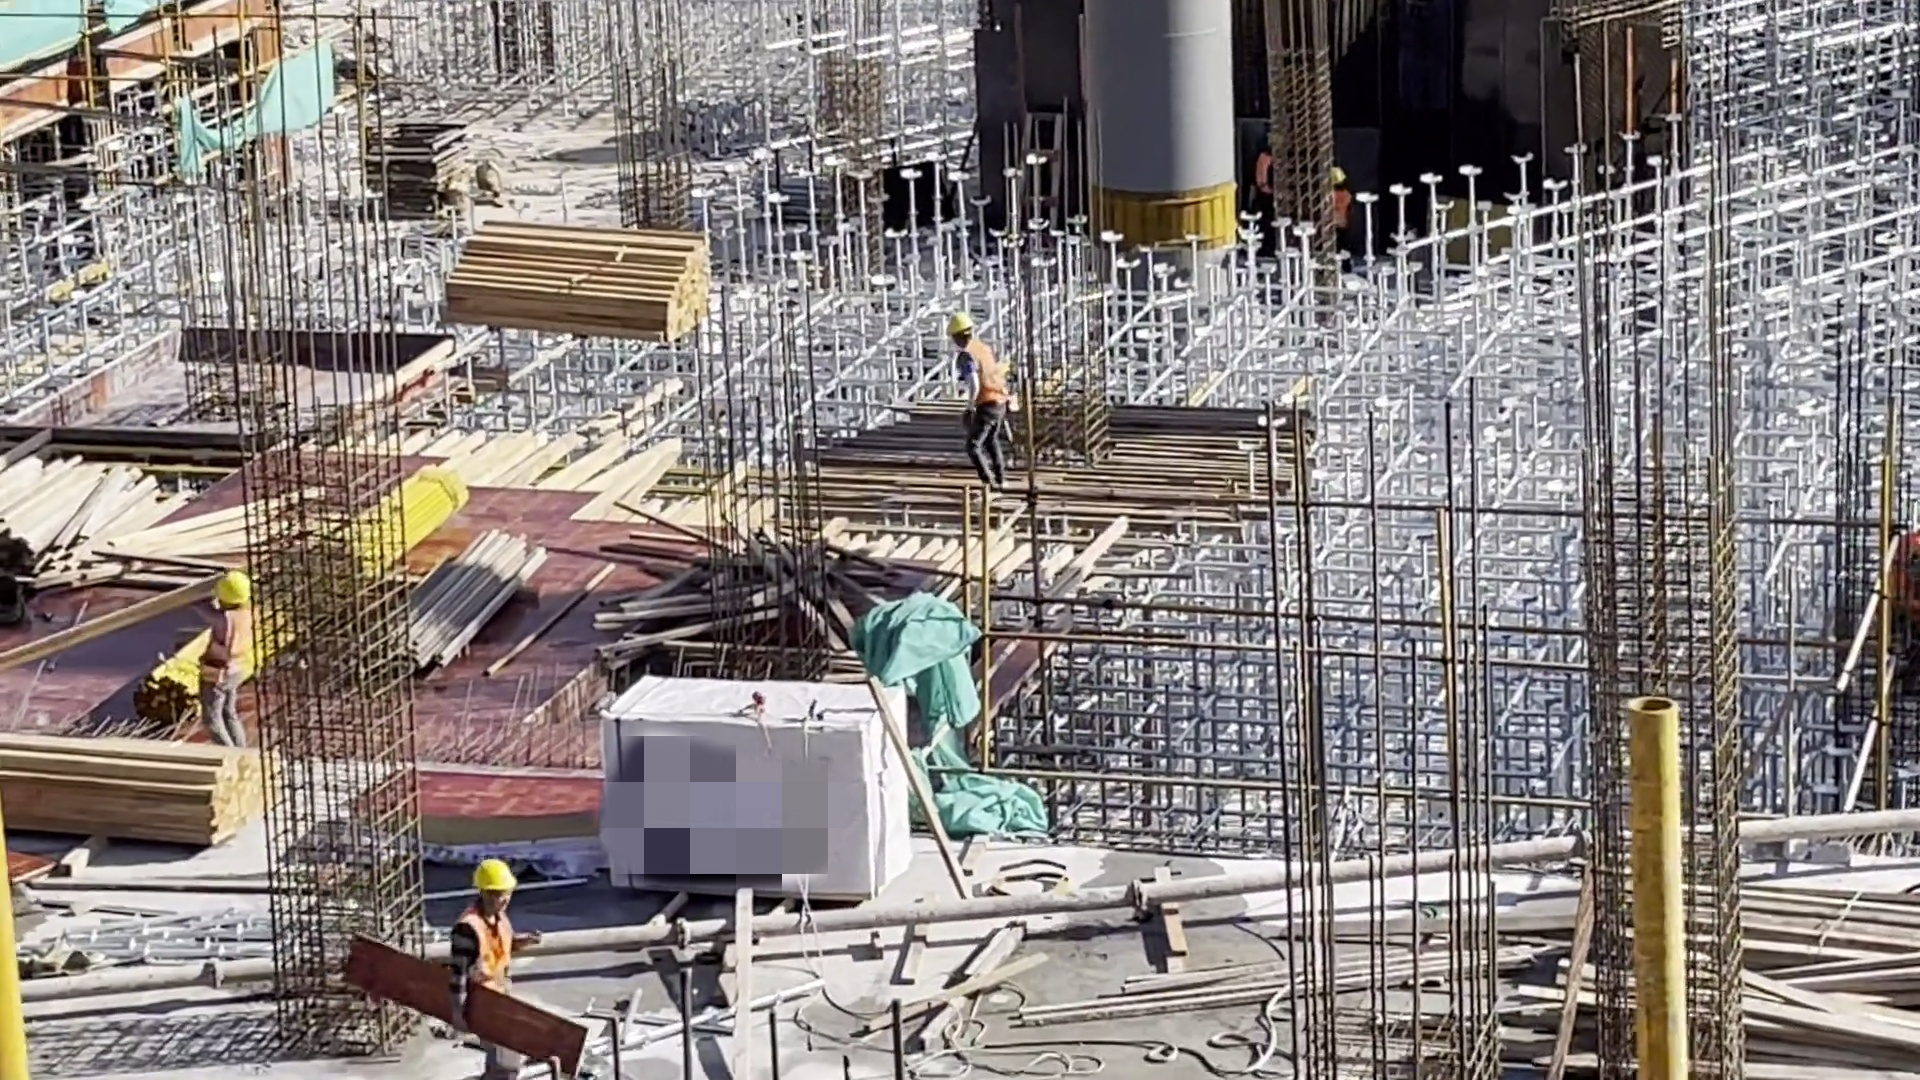helmet: (476, 859, 515, 889), (942, 310, 975, 337)
person: (452, 860, 542, 1080), (194, 565, 267, 756), (936, 310, 1008, 474)
rebar: (817, 389, 1350, 541)
vest: (959, 343, 1004, 406)
wood: (1, 458, 249, 592), (436, 216, 705, 338), (8, 733, 283, 833), (415, 520, 581, 668)
